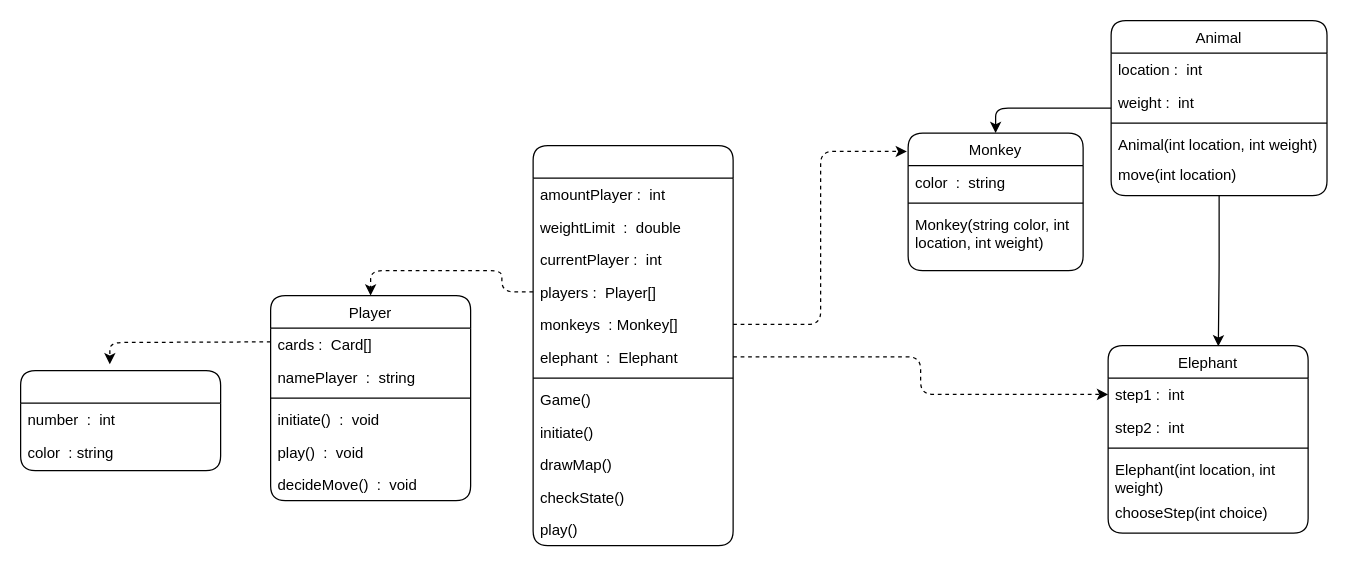
This 1348x566 diagram has some shape labels left out. Each missing label, with the box of its shape:
BoardGame: (532, 144, 733, 546)
Card: (19, 369, 221, 471)
